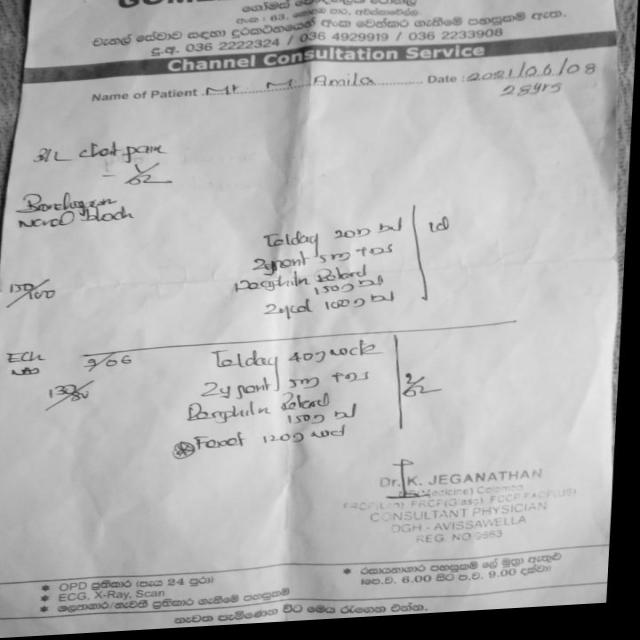Prescription: (232, 262, 392, 312), (186, 393, 364, 435), (212, 339, 388, 379), (251, 240, 401, 282), (262, 215, 409, 257), (202, 369, 378, 403), (258, 290, 402, 324)
